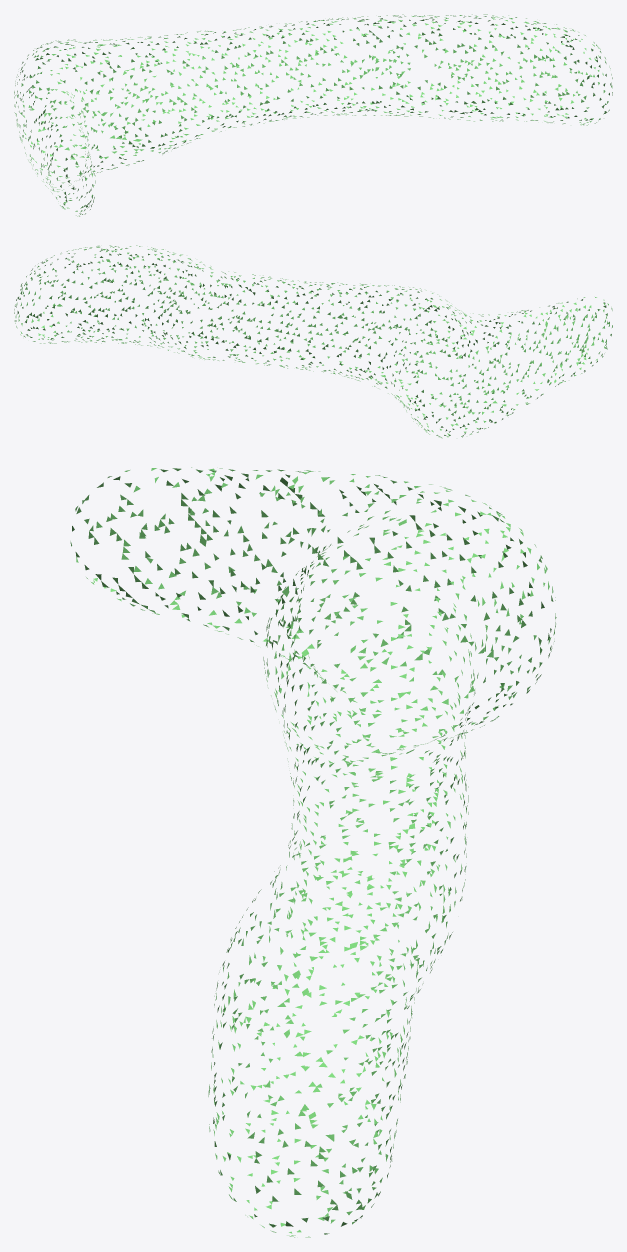
The model's file is morph_017.glb.
The picture shows the model from 3 angles, top to bottom: view 1: azimuth 30°, elevation 25°; view 2: azimuth 150°, elevation 25°; view 3: azimuth 270°, elevation 25°; orthographic projection. The views are drawn at different scales.
Bounding box in the file's own units: 115 × 31.44 × 45.19.
